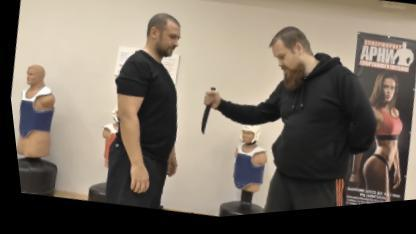knife: (189, 84, 219, 140)
